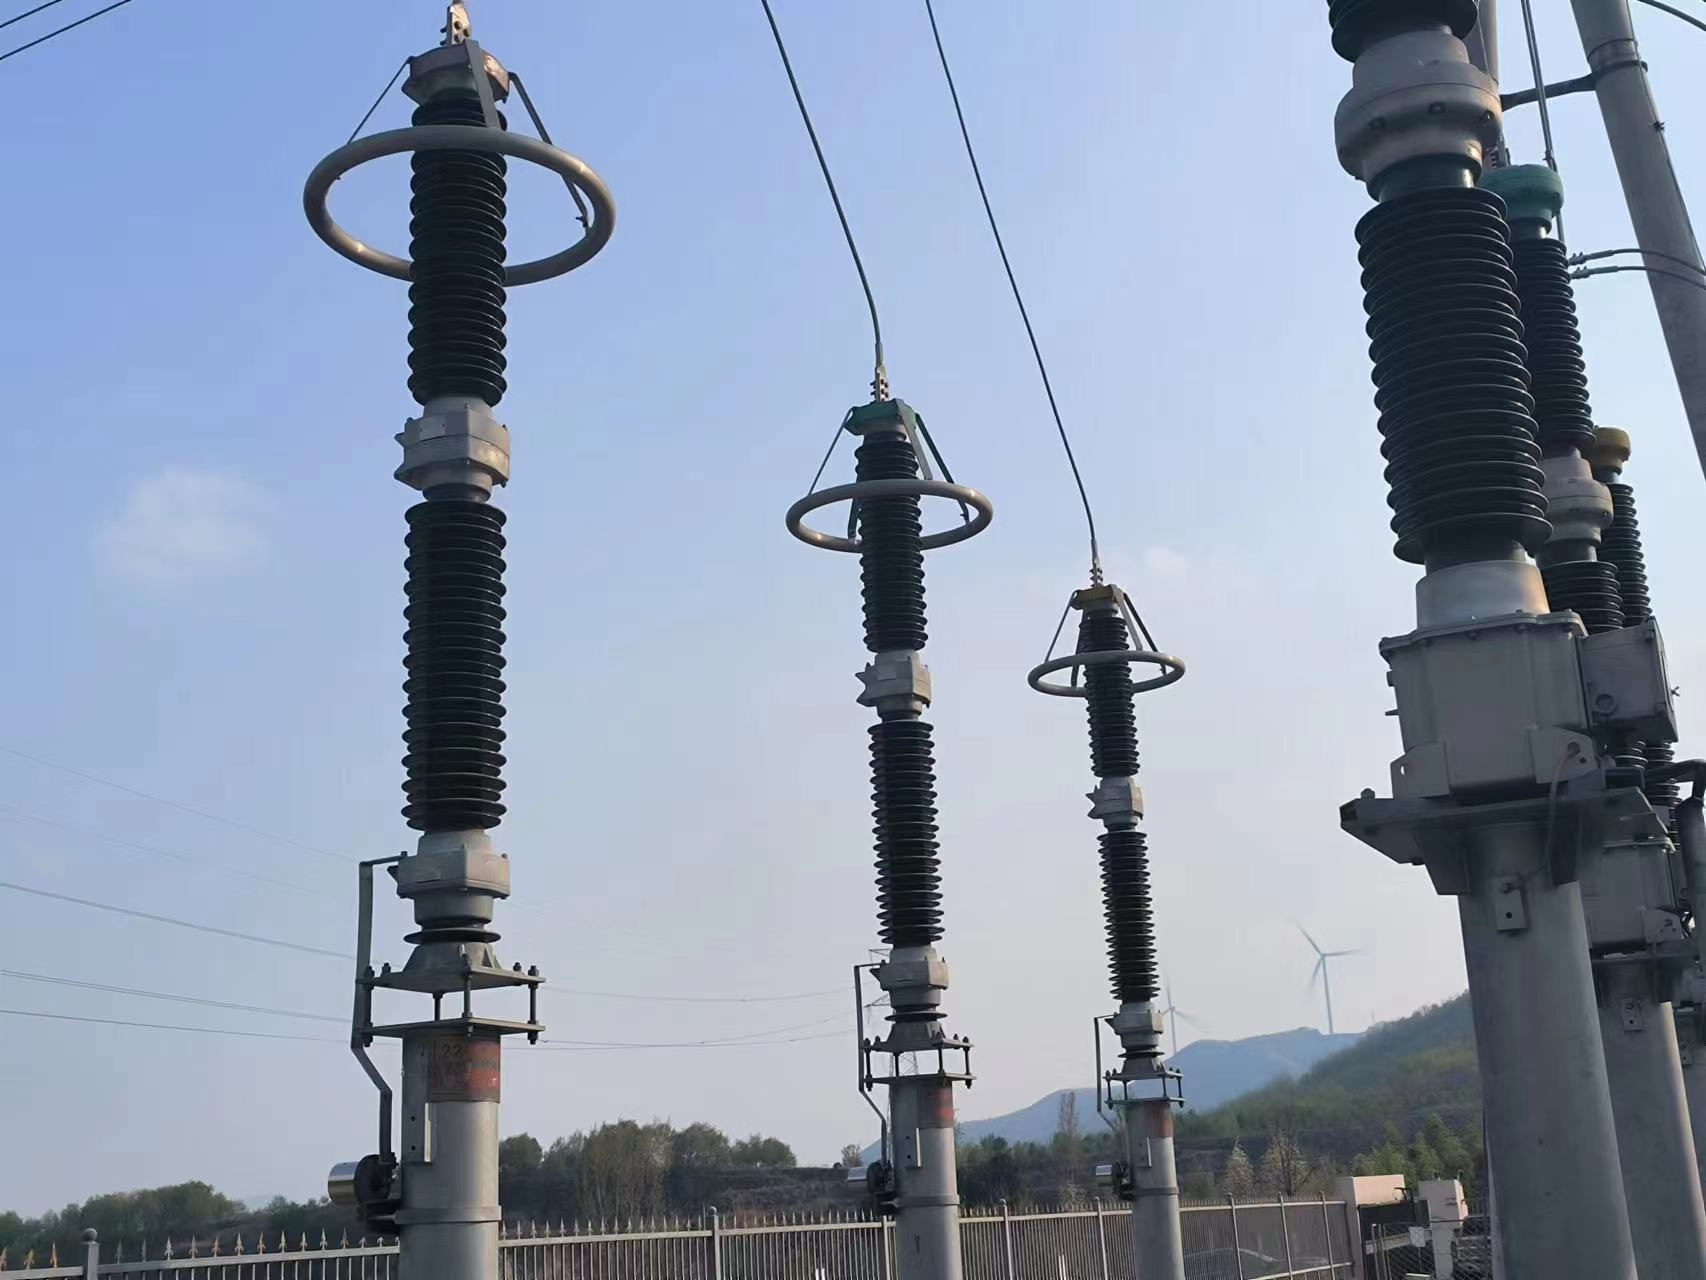Arrester: (294, 27, 620, 926), (782, 402, 998, 1023), (1024, 575, 1191, 1049)
